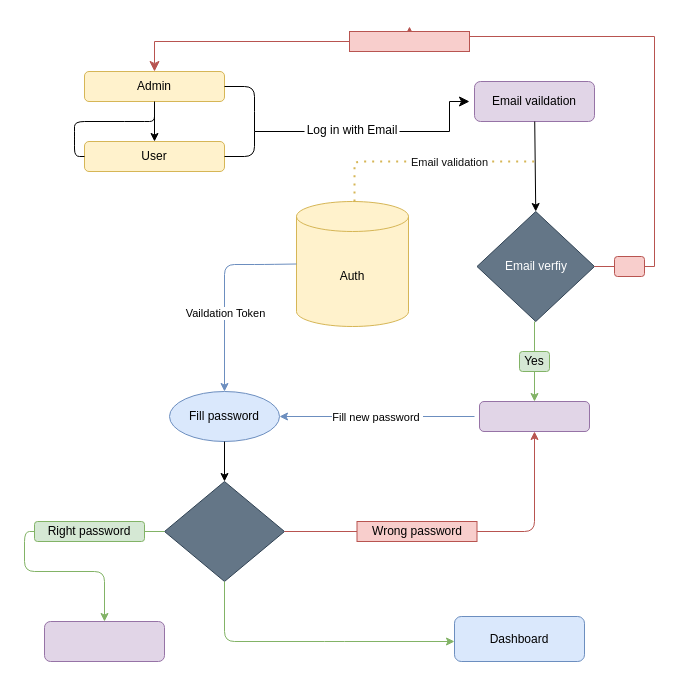
This 682x679 diagram has some shape labels left out. Each missing label, with the centre of its shape:
"Error message" goes at [409,41].
"No" goes at [629,266].
"Password Verfiy" goes at [224,531].
"Reset password" goes at [534,416].
"User Logged in" goes at [104,641].
